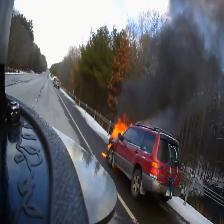smoke: (103, 0, 224, 119), (95, 109, 136, 175)
